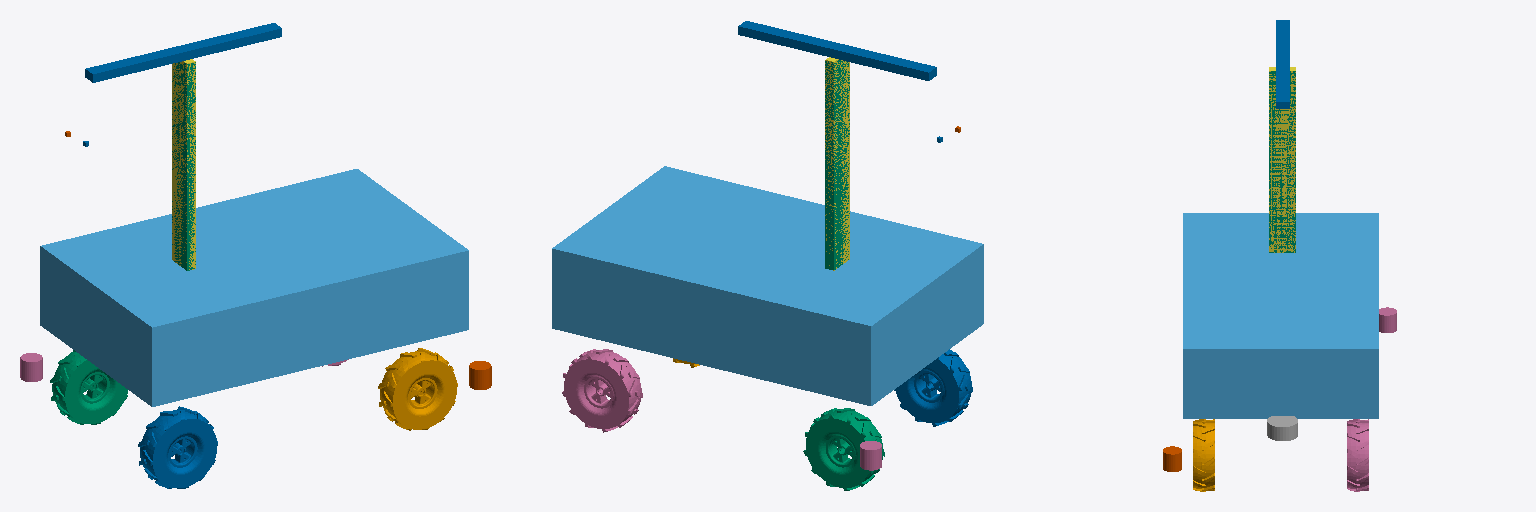
--- What the picture shows (computed from the rendered views, not written in the file) ---
The picture shows the robot from 3 angles, left to right: view 1: azimuth 30°, elevation 25°; view 2: azimuth 150°, elevation 25°; view 3: azimuth 270°, elevation 25°; orthographic projection.
Robot: sherpa — 24 links, 23 joints (8 revolute, 4 continuous, 1 prismatic, 10 fixed); root link baselink; default pose: every joint at zero.
Visible links, largest first — view 1: rbsherpa_hl_base_link, rbsherpa_hl_front_right_wheel_traction_link, rbsherpa_hl_back_right_wheel_traction_link, rbsherpa_hl_back_left_wheel_traction_link, rbsherpa_hl_torso_pantilt_pan_link, rbsherpa_hl_torso_elevator_link, fake_torso_elevator_link, rbsherpa_hl_rear_laser_link, rbsherpa_hl_front_laser_link; view 2: rbsherpa_hl_base_link, rbsherpa_hl_front_left_wheel_traction_link, rbsherpa_hl_back_left_wheel_traction_link, rbsherpa_hl_back_right_wheel_traction_link, rbsherpa_hl_torso_elevator_link, rbsherpa_hl_torso_pantilt_pan_link, fake_torso_elevator_link, rbsherpa_hl_rear_laser_link; view 3: rbsherpa_hl_base_link, fake_torso_elevator_link, rbsherpa_hl_torso_elevator_link, rbsherpa_hl_front_right_wheel_traction_link, rbsherpa_hl_front_left_wheel_traction_link, rbsherpa_hl_torso_pantilt_pan_link, rbsherpa_hl_velodyne_base_link.
Link boxes in pixels (box(x1,y1,x2,y2)): rbsherpa_hl_base_link: box(40, 169, 468, 406); rbsherpa_hl_front_right_wheel_traction_link: box(378, 348, 457, 430); rbsherpa_hl_back_right_wheel_traction_link: box(138, 406, 217, 488); rbsherpa_hl_back_left_wheel_traction_link: box(50, 350, 127, 424); rbsherpa_hl_torso_pantilt_pan_link: box(85, 23, 281, 82); rbsherpa_hl_torso_elevator_link: box(172, 62, 195, 270); fake_torso_elevator_link: box(172, 59, 195, 269); rbsherpa_hl_rear_laser_link: box(20, 353, 42, 381); rbsherpa_hl_front_laser_link: box(469, 361, 491, 389); rbsherpa_hl_base_link: box(552, 166, 983, 405); rbsherpa_hl_front_left_wheel_traction_link: box(562, 349, 642, 432); rbsherpa_hl_back_left_wheel_traction_link: box(803, 408, 884, 490); rbsherpa_hl_back_right_wheel_traction_link: box(894, 349, 972, 426); rbsherpa_hl_torso_elevator_link: box(825, 60, 849, 269); rbsherpa_hl_torso_pantilt_pan_link: box(738, 21, 936, 80); fake_torso_elevator_link: box(825, 57, 849, 270); rbsherpa_hl_rear_laser_link: box(860, 441, 881, 470); rbsherpa_hl_base_link: box(1183, 213, 1378, 418); fake_torso_elevator_link: box(1269, 67, 1295, 252); rbsherpa_hl_torso_elevator_link: box(1269, 71, 1295, 252); rbsherpa_hl_front_right_wheel_traction_link: box(1193, 419, 1214, 491); rbsherpa_hl_front_left_wheel_traction_link: box(1347, 419, 1368, 491); rbsherpa_hl_torso_pantilt_pan_link: box(1276, 20, 1289, 108); rbsherpa_hl_velodyne_base_link: box(1267, 416, 1297, 440).
Size in the robot's own frame: 1.95 by 1.2 by 1.94 metres.
Meshes: 7 distinct files referenced, 4 mesh visuals loaded (1 Collada DAE); not drawn: 9 (reference not matched to a file when rendering).

The robot description file, URDF, robot "sherpa":
<?xml version="1.0" ?>
<!-- Sherpa -->
<robot name="sherpa" xmlns:xacro="http://www.ros.org/wiki/xacro">

  <!-- Base Link -->
  <link name="baselink">
    <visual>
      <origin rpy="0.0 0.0 0.0" xyz="0.0 0.0 0.001"/>
      <geometry>
        <box size="0.001 0.001 0.001"/>
      </geometry>
    </visual>

  </link>

  <!-- Chassis -->
  <joint name="rbsherpa_hl_base_footprint_joint" type="fixed">
    <parent link="baselink"/>
    <child link="rbsherpa_hl_base_link"/>
    <origin xyz="0.622 0.0 0.0"/>
  </joint>

  <link name="rbsherpa_hl_base_link">
    <visual>
      <origin rpy="0.0 0.0 0.0" xyz="0.0 0.0 0.6671"/>
      <geometry>
        <box size="1.6434 1.004 0.3944"/>
      </geometry>
    </visual>

    <collision>
      <origin rpy="0.0 0.0 0.0" xyz="0.0 0.0 0.6671"/>
      <geometry>
        <box size="1.6434 1.004 0.3944"/>
      </geometry>
    </collision>
    <inertial>
      <origin rpy="0.0 0.0 0.0" xyz="0.0 0.0 0.6671"/>
      <mass value="1"/>
      <inertia ixx="0.0969639466667" ixy="0.0" ixz="0.0" iyy="0.238026243333" iyz="0.0" izz="0.309064963333"/>
    </inertial>
  </link>
  <gazebo reference="rbsherpa_hl_base_link">
    <material>Gazebo/Red</material>
  </gazebo>


  <!-- ros_control plugin -->
  <gazebo>
    <static>false</static>
    <plugin filename="libgazebo_ros_control.so" name="gazebo_ros_control">
      <robotNamespace>/sherpa</robotNamespace>
      <robotSimType>gazebo_ros_control/DefaultRobotHWSim</robotSimType>
      <legacyModeNS>true</legacyModeNS>
    </plugin>
  </gazebo>

  <!-- Lift Link -->
  <joint name="rbsherpa_hl_torso_elevator_joint" type="prismatic">
    <parent link="rbsherpa_hl_base_link"/>
    <child link="rbsherpa_hl_torso_elevator_link"/>
    <origin rpy="0.0 0.0 0.0" xyz="-0.36280 0.0090 0.8643"/>
    <axis xyz="0 0 1"/>
    <limit effort="1000" lower="0.0" upper="5" velocity="0.5"/>
  </joint>
  <link name="rbsherpa_hl_torso_elevator_link">
    <visual>
      <origin rpy="0.0 0.0 0.0" xyz="0.0 0.0 0.51185"/>
      <geometry>
        <box size="0.04507 0.13725 1.0237"/>
      </geometry>
    </visual>
    <inertial>
      <origin rpy="0.0 0.0 0.0" xyz="0.0 0.0 0.51185"/>
      <mass value="0.5"/>
      <inertia ixx="0.0444499688542" ixy="0.0" ixz="0.0" iyy="0.0437497081208" iyz="0.0" izz="0.000869536141667"/>
    </inertial>
  </link>
  <gazebo reference="rbsherpa_hl_torso_elevator_link">
    <material>Gazebo/DarkGrey</material>
  </gazebo>
  <joint name="fake_torso_elevator_joint" type="fixed">
    <parent link="rbsherpa_hl_base_link"/>
    <child link="fake_torso_elevator_link"/>
    <origin xyz="-0.36280 0.0090 0.8643"/>
  </joint>
  <link name="fake_torso_elevator_link">
    <visual>
      <origin rpy="0.0 0.0 0.0" xyz="0.0 0.0 0.51345"/>
      <geometry>
        <box size="0.04507 0.13725 1.0269"/>
      </geometry>
    </visual>
    <inertial>
      <origin rpy="0.0 0.0 0.0" xyz="0.0 0.0 0.51345"/>
      <mass value="0.5"/>
      <inertia ixx="0.0444499688542" ixy="0.0" ixz="0.0" iyy="0.0437497081208" iyz="0.0" izz="0.000869536141667"/>
    </inertial>
  </link>
  <gazebo reference="fake_torso_elevator_link">
    <material>Gazebo/DarkGrey</material>
  </gazebo>
  <!-- Pan -->
  <joint name="rbsherpa_hl_torso_pantilt_pan_joint" type="revolute">
    <parent link="rbsherpa_hl_torso_elevator_link"/>
    <child link="rbsherpa_hl_torso_pantilt_pan_link"/>
    <origin rpy="0.0 0.0 0.0" xyz="0.0 0.0 1.0269"/>
    <axis xyz="0.0 0.0 -1"/>
    --&gt;
	
    <limit effort="1000" lower="-3.1415" upper="3.1415" velocity="0.2"/>
  </joint>
  <link name="rbsherpa_hl_torso_pantilt_pan_link">
    <visual>
      <origin rpy="0.0 0.0 3.14159265359" xyz="0.0 0.0 0.021455"/>
      <geometry>
        <box size="0.980915 0.07 0.04291"/>
      </geometry>
    </visual>
    <inertial>
      <origin rpy="0.0 0.0 0.0" xyz="0 0 0.021455"/>
      <mass value="0.5"/>
      <inertia ixx="0.000280886170833" ixy="0.0" ixz="0.0" iyy="0.0401681460552" iyz="0.0" izz="0.0402955932177"/>
    </inertial>
  </link>
  <gazebo reference="rbsherpa_hl_torso_pantilt_pan_link">
    <material>Gazebo/DarkGrey</material>
  </gazebo>

  <!-- pan_transmission -->
  <transmission name="rbsherpa_hl_torso_pantilt_pan_trans">
    <type>transmission_interface/SimpleTransmission</type>
    <joint name="rbsherpa_hl_torso_pantilt_pan_joint">
      <hardwareInterface>hardware_interface/EffortJointInterface</hardwareInterface>
    </joint>
    <actuator name="rbsherpa_hl_torso_pantilt_pan_motor">
      <mechanicalReduction>1</mechanicalReduction>
      <hardwareInterface>hardware_interface/EffortJointInterface</hardwareInterface>
    </actuator>
  </transmission>

  <!-- lift_transmission-->
  <transmission name="rbsherpa_hl_torso_elevator_trans">
    <type>transmission_interface/SimpleTransmission</type>
    <joint name="rbsherpa_hl_torso_elevator_joint">
      <hardwareInterface>hardware_interface/EffortJointInterface</hardwareInterface>
    </joint>
    <actuator name="rbsherpa_hl_torso_elevator_motor">
      <mechanicalReduction>1</mechanicalReduction>
      <hardwareInterface>hardware_interface/EffortJointInterface</hardwareInterface>
    </actuator>
  </transmission>

  <!-- yaw_transmission NEW -->
  <transmission name="rbsherpa_hl_gimbal_yaw_trans">
    <type>transmission_interface/SimpleTransmission</type>
    <joint name="rbsherpa_hl_gimbal_yaw_joint">
      <hardwareInterface>hardware_interface/EffortJointInterface</hardwareInterface>
    </joint>
    <actuator name="rbsherpa_hl_gimbal_yaw_motor">
      <mechanicalReduction>1</mechanicalReduction>
      <hardwareInterface>hardware_interface/EffortJointInterface</hardwareInterface>
    </actuator>
  </transmission>

  <!-- roll_transmission NEW -->
  <transmission name="rbsherpa_hl_gimbal_roll_trans">
    <type>transmission_interface/SimpleTransmission</type>
    <joint name="rbsherpa_hl_gimbal_roll_joint">
      <hardwareInterface>hardware_interface/EffortJointInterface</hardwareInterface>
    </joint>
    <actuator name="rbsherpa_hl_gimbal_roll_motor">
      <mechanicalReduction>1</mechanicalReduction>
      <hardwareInterface>hardware_interface/EffortJointInterface</hardwareInterface>
    </actuator>
  </transmission>

  <!-- pitch_transmission NEW -->
  <transmission name="rbsherpa_hl_gimbal_pitch_trans">
    <type>transmission_interface/SimpleTransmission</type>
    <joint name="rbsherpa_hl_gimbal_pitch_joint">
      <hardwareInterface>hardware_interface/EffortJointInterface</hardwareInterface>
    </joint>
    <actuator name="rbsherpa_hl_gimbal_pitch_motor">
      <mechanicalReduction>1</mechanicalReduction>
      <hardwareInterface>hardware_interface/EffortJointInterface</hardwareInterface>
    </actuator>
  </transmission>

  <!-- Left Steering Wheel -->
  <!--   Steering Mechanism -->
  <joint name="rbsherpa_hl_front_left_wheel_steer_joint" type="revolute">
    <parent link="rbsherpa_hl_base_link"/>
    <child link="rbsherpa_hl_front_left_wheel_steer_link"/>
    <origin xyz="0.622 0.367 0.4799"/>
    <axis rpy="0 0 0" xyz="0 0 1"/>
    <limit effort="30.0" lower="-3.13159265359" upper="3.14159265359" velocity="50.0"/>
  </joint>

  <link name="rbsherpa_hl_front_left_wheel_steer_link">
    <visual>
      <origin rpy="0.0 0.0 0.0" xyz="0.0 0.0 -0.018"/>
      <geometry>
        <mesh filename="package://rm3_sherpa_description/description/meshes/rbsherpa_hl_steer_wheel.dae"/>
      </geometry>
    </visual>
    <inertial>
      <origin rpy="1.57079632679 0.0 0.0" xyz="0.0 0.0 -0.03"/>
      <mass value="0.1"/>
      <inertia ixx="0.000643333333333" ixy="0.0" ixz="0.0" iyy="0.00128" iyz="0.0" izz="0.000643333333333"/>
    </inertial>
  </link>
  <gazebo reference="rbsherpa_hl_front_left_wheel_steer_link">
    <material>Gazebo/Grey</material>
  </gazebo>
  <!-- wheel -->
  <joint name="rbsherpa_hl_front_left_wheel_traction_joint" type="continuous">
    <parent link="rbsherpa_hl_front_left_wheel_steer_link"/>
    <child link="rbsherpa_hl_front_left_wheel_traction_link"/>
    <origin xyz="0.0 -0.03 -0.3066"/>
    <axis xyz="0.0 1.0 0.0"/>
  </joint>

  <link name="rbsherpa_hl_front_left_wheel_traction_link">
    <visual>
      <origin rpy="0.0 1.57079632679 0.0" xyz="0.0 0.0571 0.0"/>
      <geometry>
        <mesh filename="package://rm3_sherpa_description/description/meshes/rbsherpa_hl_traction_wheel.dae"/>
      </geometry>
    </visual>
    <collision>
      <origin rpy="0.0 1.57079632679 1.57079632679" xyz="0.0 0.0571 0.0"/>
      <geometry>
        <cylinder length="0.1142" radius="0.1743"/>
      </geometry>
    </collision>
    <inertial>
      <origin rpy="0.0 0.0 0.0" xyz="0.0 0.0571 0.0"/>
      <mass value="1.0"/>
      <inertia ixx="0.00868192583333" ixy="0.0" ixz="0.0" iyy="0.015190245" iyz="0.0" izz="0.00868192583333"/>
    </inertial>
  </link>
  <gazebo reference="rbsherpa_hl_front_left_wheel_traction_link">
    <material>Gazebo/DarkGrey</material>
    <mu1 value="9999999999999999999999999999999"/>
  </gazebo>
  <transmission name="rbsherpa_hl_front_left_wheel_steer_wheel_joint_trans">
    <type>transmission_interface/SimpleTransmission</type>
    <joint name="rbsherpa_hl_front_left_wheel_steer_joint">
      <hardwareInterface>hardware_interface/EffortJointInterface</hardwareInterface>
    </joint>
    <actuator name="rbsherpa_hl_front_left_wheel_steer_wheel_joint_motor">
      <hardwareInterface>hardware_interface/EffortJointInterface</hardwareInterface>
      <mechanicalReduction>1.0</mechanicalReduction>
    </actuator>
  </transmission>
  <transmission name="rbsherpa_hl_front_left_wheel_traction_wheel_traction_joint_trans">
    <type>transmission_interface/SimpleTransmission</type>
    <joint name="rbsherpa_hl_front_left_wheel_traction_joint">
      <hardwareInterface>hardware_interface/EffortJointInterface</hardwareInterface>
    </joint>
    <actuator name="rbsherpa_hl_front_left_wheel_traction_wheel_traction_joint_motor">
      <hardwareInterface>hardware_interface/EffortJointInterface</hardwareInterface>
      <mechanicalReduction>1.0</mechanicalReduction>
    </actuator>
  </transmission>

  <!-- Steering Mechanism -->
  <joint name="rbsherpa_hl_front_right_wheel_steer_joint" type="revolute">
    <parent link="rbsherpa_hl_base_link"/>
    <child link="rbsherpa_hl_front_right_wheel_steer_link"/>
    <origin xyz="0.622 -0.367 0.4799"/>
    <axis rpy="0 0 0" xyz="0 0 1"/>
    <limit effort="30.0" lower="-3.13159265359" upper="3.14159265359" velocity="50.0"/>
  </joint>

  <link name="rbsherpa_hl_front_right_wheel_steer_link">
    <visual>
      <origin rpy="0.0 0.0 3.14159265359" xyz="0.0 0.0 -0.018"/>
      <geometry>
        <mesh filename="package://rm3_sherpa_description/description/meshes/rbsherpa_hl_steer_wheel.dae"/>
      </geometry>
    </visual>
    <inertial>
      <origin rpy="1.57079632679 0.0 0.0" xyz="0.0 0.0 -0.03"/>
      <mass value="0.1"/>
      <inertia ixx="0.000643333333333" ixy="0.0" ixz="0.0" iyy="0.00128" iyz="0.0" izz="0.000643333333333"/>
    </inertial>
  </link>
  <gazebo reference="rbsherpa_hl_front_right_wheel_steer_link">
    <material>Gazebo/Grey</material>
  </gazebo>
  <!-- wheel -->
  <joint name="rbsherpa_hl_front_right_wheel_traction_joint" type="continuous">
    <parent link="rbsherpa_hl_front_right_wheel_steer_link"/>
    <child link="rbsherpa_hl_front_right_wheel_traction_link"/>
    <origin xyz="0.0 0.03 -0.3066"/>
    <axis xyz="0.0 1.0 0.0"/>
  </joint>

  <link name="rbsherpa_hl_front_right_wheel_traction_link">
    <visual>
      <origin rpy="0.0 1.57079632679 0.0" xyz="0.0 -0.0571 0.0"/>
      <geometry>
        <mesh filename="package://rm3_sherpa_description/description/meshes/rbsherpa_hl_traction_wheel.dae"/>
      </geometry>
    </visual>
    <collision>
      <origin rpy="0.0 1.57079632679 1.57079632679" xyz="0.0 -0.0571 0.0"/>
      <geometry>
        <cylinder length="0.1142" radius="0.1743"/>
      </geometry>
    </collision>
    <inertial>
      <origin rpy="0.0 0.0 0.0" xyz="0.0 -0.0571 0.0"/>
      <mass value="1.0"/>
      <inertia ixx="0.00868192583333" ixy="0.0" ixz="0.0" iyy="0.015190245" iyz="0.0" izz="0.00868192583333"/>
    </inertial>
  </link>
  <transmission name="rbsherpa_hl_front_right_wheel_steer_wheel_joint_trans">
    <type>transmission_interface/SimpleTransmission</type>
    <joint name="rbsherpa_hl_front_right_wheel_steer_joint">
      <hardwareInterface>hardware_interface/EffortJointInterface</hardwareInterface>
    </joint>
    <actuator name="rbsherpa_hl_front_right_wheel_steer_wheel_joint_motor">
      <hardwareInterface>hardware_interface/EffortJointInterface</hardwareInterface>
      <mechanicalReduction>1.0</mechanicalReduction>
    </actuator>
  </transmission>
  <transmission name="rbsherpa_hl_front_right_wheel_traction_wheel_traction_joint_trans">
    <type>transmission_interface/SimpleTransmission</type>
    <joint name="rbsherpa_hl_front_right_wheel_traction_joint">
      <hardwareInterface>hardware_interface/EffortJointInterface</hardwareInterface>
    </joint>
    <actuator name="rbsherpa_hl_front_right_wheel_traction_wheel_traction_joint_motor">
      <hardwareInterface>hardware_interface/EffortJointInterface</hardwareInterface>
      <mechanicalReduction>1.0</mechanicalReduction>
    </actuator>
  </transmission>
  <gazebo reference="rbsherpa_hl_front_right_wheel_traction_link">
    <material>Gazebo/DarkGrey</material>
    <mu1 value="9999999999999999999999999999999"/>
  </gazebo>

  <!-- Left rear Wheel -->
  <!-- Support-->
  <joint name="rbsherpa_hl_back_left_wheel_steer_joint" type="revolute">
    <parent link="rbsherpa_hl_base_link"/>
    <child link="rbsherpa_hl_back_left_wheel_steer_link"/>
    <origin xyz="-0.622 0.367 0.4799"/>
    <axis rpy="0 0 0" xyz="0 0 1"/>
    <limit effort="30.0" lower="-3.13159265359" upper="3.14159265359" velocity="50.0"/>
  </joint>

  <link name="rbsherpa_hl_back_left_wheel_steer_link">
    <visual>
      <origin rpy="0.0 0.0 0.0" xyz="0.0 0.0 -0.018"/>
      <geometry>
        <mesh filename="package://rm3_sherpa_description/description/meshes/rbsherpa_hl_steer_wheel.dae"/>
      </geometry>
    </visual>
    <inertial>
      <origin rpy="1.57079632679 0.0 0.0" xyz="0.0 0.0 -0.03"/>
      <mass value="0.1"/>
      <inertia ixx="0.000643333333333" ixy="0.0" ixz="0.0" iyy="0.00128" iyz="0.0" izz="0.000643333333333"/>
    </inertial>
  </link>
  <gazebo reference="rbsherpa_hl_back_left_wheel_steer_link">
    <material>Gazebo/Grey</material>
  </gazebo>
  <!-- wheel -->
  <joint name="rbsherpa_hl_back_left_wheel_traction_joint" type="continuous">
    <parent link="rbsherpa_hl_back_left_wheel_steer_link"/>
    <child link="rbsherpa_hl_back_left_wheel_traction_link"/>
    <origin xyz="0.0 -0.03 -0.3066"/>
    <axis xyz="0.0 1.0 0.0"/>
  </joint>

  <link name="rbsherpa_hl_back_left_wheel_traction_link">
    <visual>
      <origin rpy="0.0 1.57079632679 0.0" xyz="0.0 0.0571 0.0"/>
      <geometry>
        <mesh filename="package://rm3_sherpa_description/description/meshes/rbsherpa_hl_traction_wheel.dae"/>
      </geometry>
    </visual>
    <collision>
      <origin rpy="0.0 1.57079632679 1.57079632679" xyz="0.0 0.0571 0.0"/>
      <geometry>
        <cylinder length="0.1142" radius="0.1743"/>
      </geometry>
    </collision>
    <inertial>
      <origin rpy="0.0 0.0 0.0" xyz="0.0 0.0571 0.0"/>
      <mass value="1.0"/>
      <inertia ixx="0.00868192583333" ixy="0.0" ixz="0.0" iyy="0.015190245" iyz="0.0" izz="0.00868192583333"/>
    </inertial>
  </link>
  <transmission name="rbsherpa_hl_back_left_wheel_steer_wheel_joint_trans">
    <type>transmission_interface/SimpleTransmission</type>
    <joint name="rbsherpa_hl_back_left_wheel_steer_joint">
      <hardwareInterface>hardware_interface/EffortJointInterface</hardwareInterface>
    </joint>
    <actuator name="rbsherpa_hl_back_left_wheel_steer_wheel_joint_motor">
      <hardwareInterface>hardware_interface/EffortJointInterface</hardwareInterface>
      <mechanicalReduction>1.0</mechanicalReduction>
    </actuator>
  </transmission>
  <transmission name="rbsherpa_hl_back_left_wheel_traction_wheel_traction_joint_trans">
    <type>transmission_interface/SimpleTransmission</type>
    <joint name="rbsherpa_hl_back_left_wheel_traction_joint">
      <hardwareInterface>hardware_interface/EffortJointInterface</hardwareInterface>
    </joint>
    <actuator name="rbsherpa_hl_back_left_wheel_traction_wheel_traction_joint_motor">
      <hardwareInterface>hardware_interface/EffortJointInterface</hardwareInterface>
      <mechanicalReduction>1.0</mechanicalReduction>
    </actuator>
  </transmission>
  <gazebo reference="rbsherpa_hl_back_left_wheel_traction_link">
    <material>Gazebo/DarkGrey</material>
    <mu1 value="9999999999999999999999999999999"/>
  </gazebo>

  <!-- Support -->
  <joint name="rbsherpa_hl_back_right_wheel_steer_joint" type="revolute">
    <parent link="rbsherpa_hl_base_link"/>
    <child link="rbsherpa_hl_back_right_wheel_steer_link"/>
    <origin xyz="-0.622 -0.367 0.4799"/>
    <axis rpy="0 0 0" xyz="0 0 1"/>
    <limit effort="30.0" lower="-3.13159265359" upper="3.14159265359" velocity="50.0"/>
  </joint>

  <link name="rbsherpa_hl_back_right_wheel_steer_link">
    <visual>
      <origin rpy="0.0 0.0 3.14159265359" xyz="0.0 0.0 -0.018"/>
      <geometry>
        <mesh filename="package://rm3_sherpa_description/description/meshes/rbsherpa_hl_steer_wheel.dae"/>
      </geometry>
    </visual>
    <inertial>
      <origin rpy="1.57079632679 0.0 0.0" xyz="0.0 0.0 -0.03"/>
      <mass value="0.1"/>
      <inertia ixx="0.000643333333333" ixy="0.0" ixz="0.0" iyy="0.00128" iyz="0.0" izz="0.000643333333333"/>
    </inertial>
  </link>
  <gazebo reference="rbsherpa_hl_back_right_wheel_steer_link">
    <material>Gazebo/Grey</material>
  </gazebo>
  <!-- wheel -->
  <joint name="rbsherpa_hl_back_right_wheel_traction_joint" type="continuous">
    <parent link="rbsherpa_hl_back_right_wheel_steer_link"/>
    <child link="rbsherpa_hl_back_right_wheel_traction_link"/>
    <origin xyz="0.0 0.03 -0.3066"/>
    <axis xyz="0.0 1 0.0"/>
  </joint>
  <link name="rbsherpa_hl_back_right_wheel_traction_link">
    <visual>
      <origin rpy="0.0 1.57079632679 0.0" xyz="0.0 -0.0571 0.0"/>
      <geometry>
        <mesh filename="package://rm3_sherpa_description/description/meshes/rbsherpa_hl_traction_wheel.dae"/>
      </geometry>
    </visual>
    <collision>
      <origin rpy="0.0 1.57079632679 1.57079632679" xyz="0.0 -0.0571 0"/>
      <geometry>
        <cylinder length="0.1142" radius="0.1743"/>
      </geometry>
    </collision>
    <inertial>
      <origin rpy="0.0 0.0 0.0" xyz="0.0 -0.0571 0.0"/>
      <mass value="1.0"/>
      <inertia ixx="0.00868192583333" ixy="0.0" ixz="0.0" iyy="0.015190245" iyz="0.0" izz="0.00868192583333"/>
    </inertial>
  </link>
  <transmission name="rbsherpa_hl_back_right_wheel_steer_wheel_joint_trans">
    <type>transmission_interface/SimpleTransmission</type>
    <joint name="rbsherpa_hl_back_right_wheel_steer_joint">
      <hardwareInterface>hardware_interface/EffortJointInterface</hardwareInterface>
    </joint>
    <actuator name="rbsherpa_hl_back_right_wheel_steer_wheel_joint_motor">
      <hardwareInterface>hardware_interface/EffortJointInterface</hardwareInterface>
      <mechanicalReduction>1.0</mechanicalReduction>
    </actuator>
  </transmission>
  <transmission name="rbsherpa_hl_back_right_wheel_traction_wheel_traction_joint_trans">
    <type>transmission_interface/SimpleTransmission</type>
    <joint name="rbsherpa_hl_back_right_wheel_traction_joint">
      <hardwareInterface>hardware_interface/EffortJointInterface</hardwareInterface>
    </joint>
    <actuator name="rbsherpa_hl_back_right_wheel_traction_wheel_traction_joint_motor">
      <hardwareInterface>hardware_interface/EffortJointInterface</hardwareInterface>
      <mechanicalReduction>1.0</mechanicalReduction>
    </actuator>
  </transmission>
  <gazebo reference="rbsherpa_hl_back_right_wheel_traction_link">
    <material>Gazebo/DarkGrey</material>
    <mu1 value="9999999999999999999999999999999"/>
  </gazebo>
  <!-- Front Sick -->
  <link name="rbsherpa_hl_front_laser_link">
    <visual>
      <origin rpy="0 0 0" xyz="0 0 0"/>
      <geometry>
        <!--				<box size="0.1 0.1 0.1"/>-->
        <cylinder length="0.1" radius="0.05"/>
      </geometry>
    </visual>
    <inertial>
      <mass value="1e-5"/>
      <origin rpy="0 0 0" xyz="0 0 0"/>
      <inertia ixx="1e-6" ixy="0" ixz="0" iyy="1e-6" iyz="0" izz="1e-6"/>
    </inertial>
  </link>
  <joint name="sick_front_joint" type="fixed">
    <axis xyz="0 1 0"/>
    <origin rpy="3.14159265359 0 -0.785398163397" xyz="0.85070 -0.55260 0.25790"/>
    <parent link="rbsherpa_hl_base_link"/>
    <child link="rbsherpa_hl_front_laser_link"/>
  </joint>
  <gazebo reference="rbsherpa_hl_front_laser_link">
    <sensor name="Sick S300_1" type="ray">
      <pose>0 0 0 0 0 0</pose>
      <visualize>false</visualize>
      <update_rate>12.5</update_rate>
      <ray>
        <scan>
          <horizontal>
            <samples>541</samples>
            <resolution>1</resolution>
            <min_angle>-2.35619</min_angle>
            <max_angle>2.35619</max_angle>
          </horizontal>
        </scan>
        <range>
          <min>0.10</min>
          <max>30.0</max>
          <resolution>0.03</resolution>
        </range>
      </ray>
      <plugin filename="libgazebo_ros_laser.so" name="sick_controller">
        <topicName>/base/front_laser/scan</topicName>
        <frameName>rbsherpa_hl_front_laser_link</frameName>
      </plugin>
    </sensor>
    <material>Gazebo/Yellow</material>
  </gazebo>
  <!-- Rear Sick -->
  <link name="rbsherpa_hl_rear_laser_link">
    <visual>
      <origin rpy="0 0 0" xyz="0 0 0"/>
      <geometry>
        <!--				<box size="0.1 0.1 0.1"/>-->
        <cylinder length="0.1" radius="0.05"/>
      </geometry>
    </visual>
    <inertial>
      <mass value="1e-5"/>
      <origin rpy="0 0 0" xyz="0 0 0"/>
      <inertia ixx="1e-6" ixy="0" ixz="0" iyy="1e-6" iyz="0" izz="1e-6"/>
    </inertial>
  </link>
  <joint name="sick_rear_joint" type="fixed">
    <axis xyz="0 1 0"/>
    <origin rpy="3.14159265359 0 2.35619449019" xyz="-0.84360 0.54280 0.24980"/>
    <parent link="rbsherpa_hl_base_link"/>
    <child link="rbsherpa_hl_rear_laser_link"/>
  </joint>
  <gazebo reference="rbsherpa_hl_rear_laser_link">
    <sensor name="Sick S300_rear" type="ray">
      <pose>0 0 0 0 0 0</pose>
      <visualize>false</visualize>
      <update_rate>12.5</update_rate>
      <ray>
        <scan>
          <horizontal>
            <samples>541</samples>
            <resolution>1</resolution>
            <min_angle>-2.35619</min_angle>
            <max_angle>2.35619</max_angle>
          </horizontal>
        </scan>
        <range>
          <min>0.10</min>
          <max>30.0</max>
          <resolution>0.03</resolution>
        </range>
      </ray>
      <plugin filename="libgazebo_ros_laser.so" name="sick_controller">
        <topicName>/base/rear_laser/scan</topicName>
        <frameName>rbsherpa_hl_rear_laser_link</frameName>
      </plugin>
    </sensor>
    <material>Gazebo/Yellow</material>
  </gazebo>
  
  <!-- Faro -->
  <joint name="faro_revolute_joint" type="fixed">
    <parent link="rbsherpa_hl_torso_pantilt_pan_link"/>
    <child link="faro"/>
    <origin rpy="0.0 0.0 0.0" xyz="0.42830 0.00930 -0.21110"/>
  </joint>
  <link name="faro">
    <visual>
      <origin rpy="0 0 0" xyz="-0.38 0.00530 0.13230"/>
      <geometry>
        <mesh filename="package://rm3_sherpa_description/description/meshes/faro.dae"/>
      </geometry>
    </visual>
    <inertial>
      <origin rpy="0 0 0" xyz="0 0 0"/>
      <mass value="1.0"/>
      <inertia ixx="0.00520833333333" ixy="0.0" ixz="0.0" iyy="0.00270833333333" iyz="0.0" izz="0.00416666666667"/>
    </inertial>
  </link>
  <gazebo reference="faro">
    <material>Gazebo/DarkGrey</material>
  </gazebo>

  <!-- Gimball -->
  <joint name="arm_yaw_joint" type="fixed">
    <parent link="rbsherpa_hl_torso_pantilt_pan_link"/>
    <child link="support_yaw"/>
    <origin rpy="0 0 0" xyz="-0.45470 0 -0.0759 "/>
  </joint>
  <link name="support_yaw">
    <visual>
      <origin rpy="0 0 0" xyz="0.45470 0 0"/>
      <geometry>
        <mesh filename="package://rm3_sherpa_description/description/meshes/gimbal_support_yaw.dae"/>
      </geometry>
    </visual>
    <inertial>
      <mass value="0.5"/>
      <origin rpy="0 0 0" xyz="0 0 0"/>
      <inertia ixx="0.00102680166667" ixy="0.0" ixz="0.0" iyy="0.00102680166667" iyz="0.0" izz="0.000133333333333"/>
    </inertial>
  </link>
  <gazebo reference="support_yaw">
    <material>Gazebo/DarkGrey</material>
  </gazebo>
  <joint name="rbsherpa_hl_gimbal_yaw_joint" type="revolute">
    <parent link="rbsherpa_hl_torso_pantilt_pan_link"/>
    <child link="rbsherpa_hl_gimbal_yaw_link"/>
    <origin rpy="0 0 3.14159265359" xyz="-0.45580 -0.01290 -0.14820"/>
    <axis xyz="0 0 -1"/>
    <limit effort="30.0" lower="-3.14149265359" upper="3.14149265359" velocity="50.0"/>
  </joint>
  <link name="rbsherpa_hl_gimbal_yaw_link">
    <visual>
      <origin rpy="0 0 3.14159265359" xyz="-0.45470 0 0.08180"/>
      <geometry>
        <mesh filename="package://rm3_sherpa_description/description/meshes/gimbal_yaw.dae"/>
      </geometry>
    </visual>
    <inertial>
      <mass value="0.5"/>
      <origin rpy="0 0 0" xyz="0 0 0"/>
      <inertia ixx="0.000120833333333" ixy="0.0" ixz="0.0" iyy="0.00483333333333" iyz="0.0" izz="0.00492083333333"/>
    </inertial>
  </link>
  <gazebo reference="rbsherpa_hl_gimbal_yaw_link">
    <material>Gazebo/DarkGrey</material>
  </gazebo>
 
  <joint name="rbsherpa_hl_gimbal_roll_joint" type="revolute">
    <parent link="rbsherpa_hl_gimbal_yaw_link"/>
    <child link="rbsherpa_hl_gimbal_roll_link"/>
    <origin rpy="0.0 0.0 0.0" xyz="-0.14220 -0.00680 -0.14330"/>
    <axis xyz="1.0 0.0 0.0"/>
    <limit effort="30.0" lower="-1.57079632679" upper="1.57079632679" velocity="50.0"/>
  </joint>
  <link name="rbsherpa_hl_gimbal_roll_link">
    <visual>
      <origin rpy="0.0 0.0 3.14159265359" xyz="-0.310 0.0050 0.220"/>
      <geometry>
        <mesh filename="package://rm3_sherpa_description/description/meshes/gimbal_roll.dae"/>
      </geometry>
    </visual>
    <inertial>
      <mass value="0.5"/>
      <origin rpy="0.0 0.0 0.0" xyz="0.0 0.0 0.0"/>
      <inertia ixx="0.00492083333333" ixy="0.0" ixz="0.0" iyy="0.00177083333333" iyz="0.0" izz="0.00648333333333"/>
    </inertial>
  </link>
  <gazebo reference="rbsherpa_hl_gimbal_roll_link">
    <material>Gazebo/DarkGrey</material>
  </gazebo>

  <joint name="rbsherpa_hl_gimbal_pitch_joint" type="revolute">
    <parent link="rbsherpa_hl_gimbal_roll_link"/>
    <child link="rbsherpa_hl_gimbal_pitch_link"/>
    <origin rpy="0.0 0.0 0.0" xyz="0.18120 -0.13220 -0.00340"/>
    <axis xyz="0.0 -1 0.0"/>
    <limit effort="30.0" lower="-1.57079632679" upper="1.57079632679" velocity="50.0"/>
  </joint>
  -
  <link name="rbsherpa_hl_gimbal_pitch_link">
    <visual>
      <origin rpy="0.0 0.0 3.14159265359" xyz="-0.480 0.13780 0.21850"/>
      <geometry>
        <mesh filename="package://rm3_sherpa_description/description/meshes/gimbal_pitch.dae"/>
      </geometry>
    </visual>
    <inertial>
      <mass value="0.5"/>
      <origin rpy="0.0 0.0 0.0" xyz="0.0 0.140 0.0"/>
      <inertia ixx="0.00317083333333" ixy="0.0" ixz="0.0" iyy="0.00150520833333" iyz="0.0" izz="0.00166770833333"/>
    </inertial>
  </link>
  <gazebo reference="rbsherpa_hl_gimbal_pitch_link">
    <material>Gazebo/DarkGrey</material>
  </gazebo>
  <joint name="camera_joint" type="fixed">
    <parent link="rbsherpa_hl_gimbal_pitch_link"/>
    <child link="camera"/>
    <origin rpy="0.0 0.0 0.0" xyz="0.02040 0.14450 -0.00710"/>
  </joint>
  <link name="camera">
    <visual>
      <origin rpy="0.0 0.0 0.0" xyz="0.0 0.0 0.0"/>
      <geometry>
        <box size="0.020 0.020 0.020"/>
      </geometry>
    </visual>
    <inertial>
      <mass value="0.5"/>
      <origin rpy="0.0 0.0 0.0" xyz="0.0 0.0 0.0"/>
      <inertia ixx="3.33333333333e-05" ixy="0.0" ixz="0.0" iyy="3.33333333333e-05" iyz="0.0" izz="3.33333333333e-05"/>
    </inertial>
  </link>
  <joint name="micasense_joint" type="fixed">
    <parent link="rbsherpa_hl_gimbal_pitch_link"/>
    <child link="micasense"/>
    <origin rpy="0.0 0.0 0.0" xyz="0.11540 0.14610 0.06410"/>
  </joint>
  <link name="micasense">
    <visual>
      <origin rpy="0.0 0.0 0.0" xyz="0.0 0.0 0.0"/>
      <geometry>
        <box size="0.020 0.020 0.020"/>
      </geometry>
    </visual>
    <inertial>
      <mass value="0.5"/>
      <origin rpy="0.0 0.0 0.0" xyz="0.0 0.0 0.0"/>
      <inertia ixx="3.33333333333e-05" ixy="0.0" ixz="0.0" iyy="3.33333333333e-05" iyz="0.0" izz="3.33333333333e-05"/>
    </inertial>
  </link>
  <!-- camera/micasense -->
  <gazebo reference="micasense">
    <sensor name="camera" type="camera">
      <update_rate>30.0</update_rate>
      <camera name="head">
        <horizontal_fov>1.3962634</horizontal_fov>
        <image>
          <width>800</width>
          <height>800</height>
          <format>R8G8B8</format>
        </image>
        <clip>
          <near>0.02</near>
          <far>300</far>
        </clip>
        <noise>
          <type>gaussian</type>
          <!-- Noise is sampled independently per pixel on each frame.
                   That pixel's noise value is added to each of its color
                   channels, which at that point lie in the range [0,1]. -->
          <mean>0.0</mean>
          <stddev>0.007</stddev>
        </noise>
      </camera>
      <plugin filename="libgazebo_ros_camera.so" name="camera_controller">
        <alwaysOn>true</alwaysOn>
        <updateRate>0.0</updateRate>
        <cameraName>camera</cameraName>
        <imageTopicName>image_raw</imageTopicName>
        <cameraInfoTopicName>camera_info</cameraInfoTopicName>
        <frameName>micasense</frameName>
        <hackBaseline>0.07</hackBaseline>
        <distortionK1>0.0</distortionK1>
        <distortionK2>0.0</distortionK2>
        <distortionK3>0.0</distortionK3>
        <distortionT1>0.0</distortionT1>
        <distortionT2>0.0</distortionT2>
      </plugin>
    </sensor>
  </gazebo>
  <!-- IMU -->
  <joint name="imu_joint" type="fixed">
    <parent link="rbsherpa_hl_base_link"/>
    <child link="imu"/>
    <origin rpy="0 0 0" xyz="0.54590 -0.07190 0.6970"/>
  </joint>
  <link name="imu">
    <visual>
      <origin rpy="0 0 0" xyz="0 0 0"/>
      <geometry>
        <box size="0.040 0.040 0.030"/>
      </geometry>
    </visual>
    <inertial>
      <origin rpy="0 0 0" xyz="0 0 0"/>
      <mass value="0.10"/>
      <inertia ixx="2.08333333333e-05" ixy="0.0" ixz="0.0" iyy="2.08333333333e-05" iyz="0.0" izz="2.66666666667e-05"/>
    </inertial>
  </link>
  <!-- Velodye -->
  <joint name="velodyne_joint" type="fixed">
    <parent link="rbsherpa_hl_base_link"/>
    <child link="rbsherpa_hl_velodyne_base_link"/>
    <origin rpy="0 0 0" xyz="0.8815 0.08320 0.3334"/>
    <!-- Inserire inclinazione del velodyne -->
  </joint>
  <link name="rbsherpa_hl_velodyne_base_link">
    <visual>
      <origin rpy="0 0 0" xyz="0.00170 -0.07440 0.11750"/>
      <geometry>
        <cylinder length="0.080" radius="0.08"/>
      </geometry>
    </visual>
    <inertial>
      <origin rpy="0 0 0" xyz="0.00170 0.07440 0.11750"/>
      <mass value="0.830"/>
      <inertia ixx="0.00177066666667" ixy="0.0" ixz="0.0" iyy="0.002656" iyz="0.0" izz="0.00177066666667"/>
    </inertial>
  </link>
  <gazebo reference="rbsherpa_hl_velodyne_base_link">
    <material>Gazebo/DarkGrey</material>
  </gazebo>
 
  <!-- GAZEBO -->
  <!-- ros_control plugin -->
  <gazebo>
    <plugin filename="libgazebo_ros_p3d.so" name="ground_truth">
      <alwaysOn>true</alwaysOn>
      <updateRate>100.0</updateRate>
      <bodyName>baselink</bodyName>
      <topicName>/ekf_localization_slam_node/slam_odom_magnetic</topicName>
      <gaussianNoise>0.00</gaussianNoise>
      <frameName>/map</frameName>
      <xyzOffsets>0 0 0</xyzOffsets>
      <rpyOffsets>0 0 0</rpyOffsets>
    </plugin>
    <!-- ros_control plugin -->
    <plugin filename="libgazebo_ros_control.so" name="gazebo_ros_control">
      <legacyModeNS>true</legacyModeNS>
    </plugin>
  </gazebo>
</robot>
